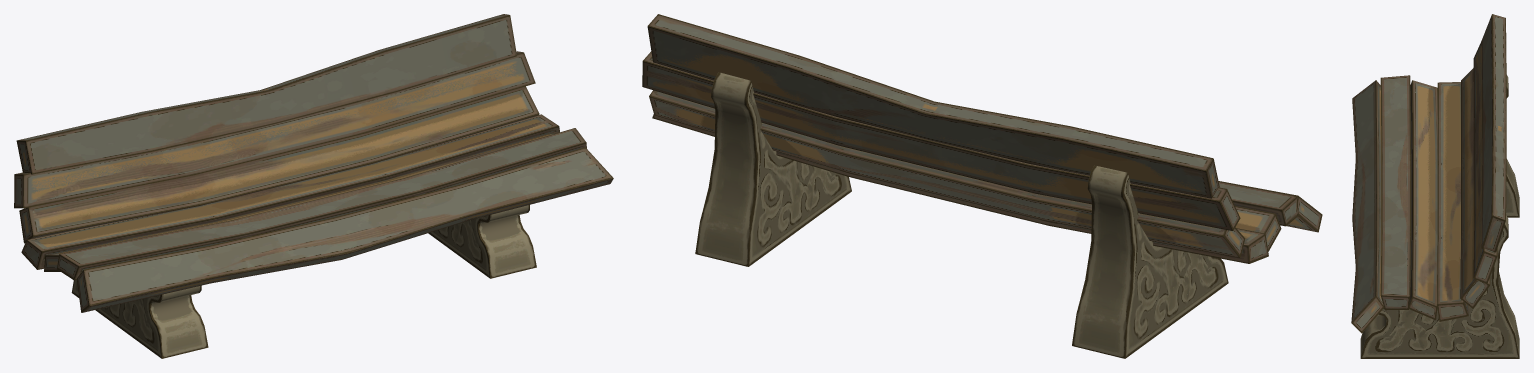
File: SM_wooden_bench.glb
3 views of the same model, side by side, from view 1: azimuth 30°, elevation 25°; view 2: azimuth 150°, elevation 25°; view 3: azimuth 270°, elevation 25° (orthographic). The views are drawn at different scales.
Visible parts, largest first — view 1: SM_wooden_bench; view 2: SM_wooden_bench; view 3: SM_wooden_bench.
Part boxes in pixels (box(x1,y1,x2,y2)): SM_wooden_bench: box(14, 14, 613, 358); SM_wooden_bench: box(642, 14, 1322, 358); SM_wooden_bench: box(1351, 14, 1519, 358).
Bounding box in the file's own units: 4.38 × 1.47 × 1.37.
Materials: 1 (1 with a texture image).
